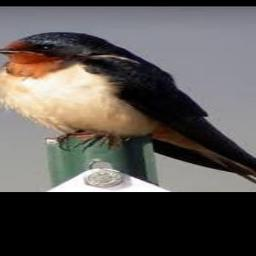Swallow: (0, 31, 256, 192)
